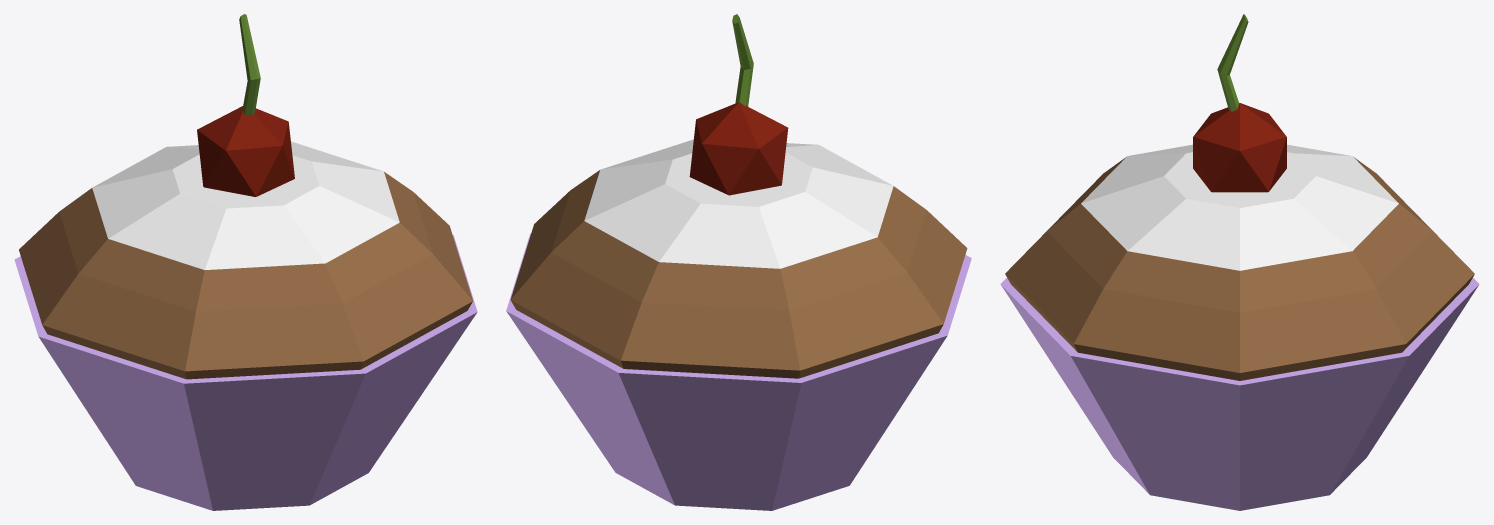
Rendered from Cupcake.fbx.
3 renders of one model, left to right at view 1: azimuth 30°, elevation 25°; view 2: azimuth 150°, elevation 25°; view 3: azimuth 270°, elevation 25°, orthographic.
Visible parts, largest first — view 1: Cupcake; view 2: Cupcake; view 3: Cupcake.
Boxes of the visible parts, bbox=[...] form: Cupcake: bbox=[14, 14, 477, 510]; Cupcake: bbox=[506, 14, 971, 510]; Cupcake: bbox=[1000, 14, 1479, 510].
Size of the model in its own units: 48.61 by 49.63 by 48.61.
